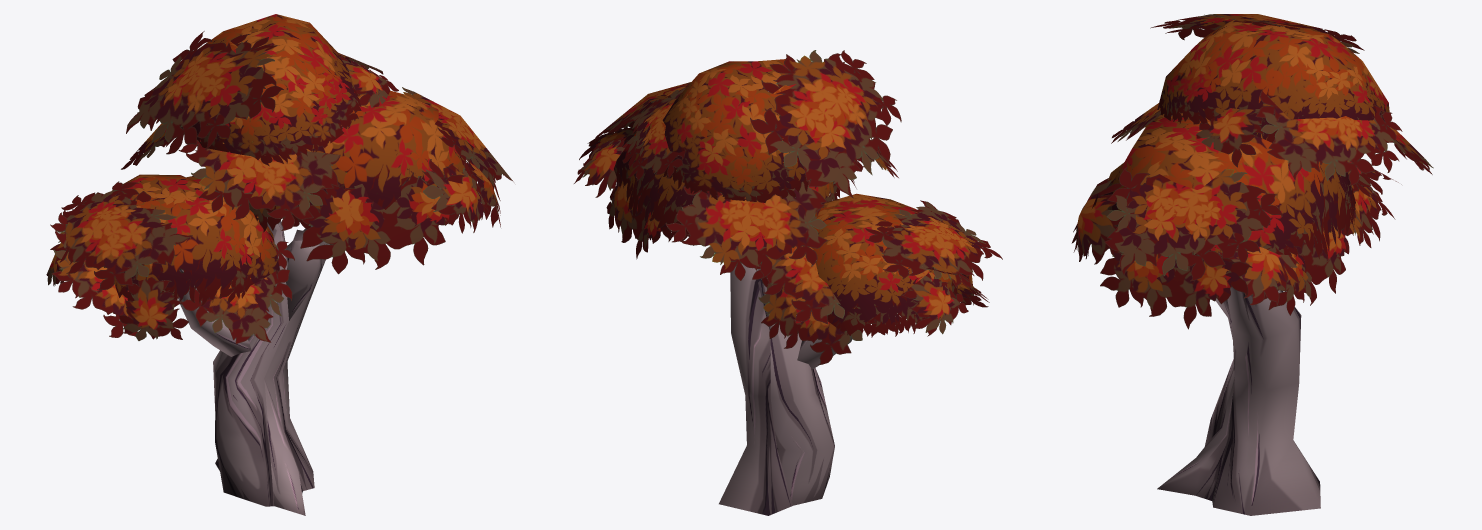
File: F_W_O_tree_008.fbx
3 views of the same model, side by side, from view 1: azimuth 30°, elevation 25°; view 2: azimuth 150°, elevation 25°; view 3: azimuth 270°, elevation 25° (orthographic). The views are drawn at different scales.
Parts seen in each view (by area): view 1: F_W_O_tree_008; view 2: F_W_O_tree_008; view 3: F_W_O_tree_008.
Part boxes in pixels (<box>): F_W_O_tree_008: <box>46,14,513,515</box>; F_W_O_tree_008: <box>574,50,1002,515</box>; F_W_O_tree_008: <box>1071,14,1433,515</box>.
Size of the model in its own units: 19.45 by 18.55 by 14.38.
